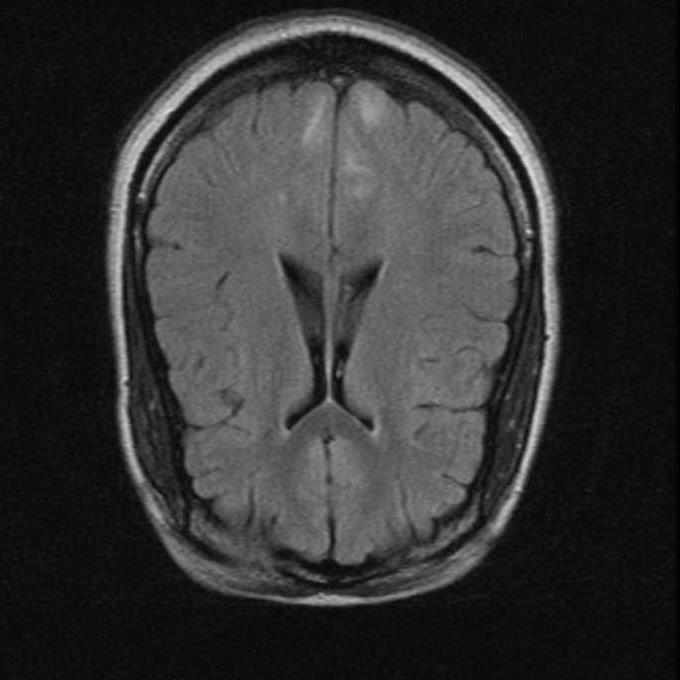Normal_Brain: (41, 1, 680, 680)
